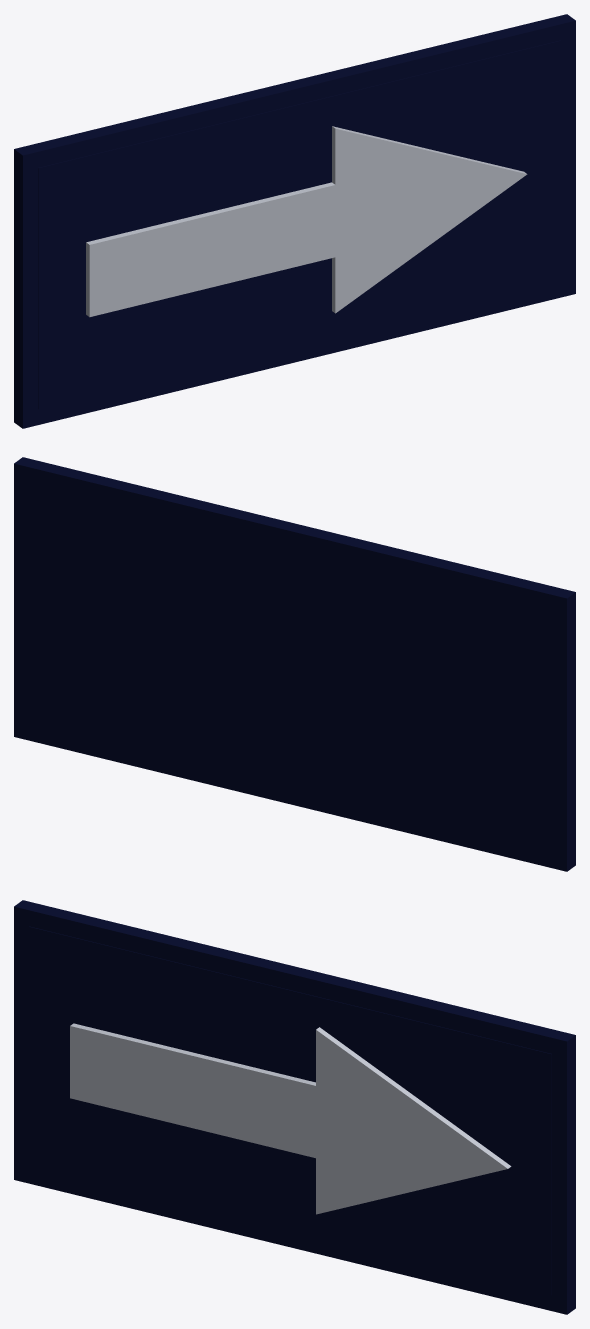
Rendered from SM_Sign_Arrow.glb.
3 views of the same model, one above another, from view 1: azimuth 30°, elevation 25°; view 2: azimuth 150°, elevation 25°; view 3: azimuth 330°, elevation 25° (orthographic).
Visible parts, largest first — view 1: SM_Sign_Arrow; view 2: SM_Sign_Arrow; view 3: SM_Sign_Arrow.
Boxes of the visible parts, x1,y1,x2,y2 form: SM_Sign_Arrow: [14, 14, 575, 428]; SM_Sign_Arrow: [14, 457, 575, 871]; SM_Sign_Arrow: [14, 900, 575, 1314].
Size of the model in its own units: 0.72 by 0.34 by 0.032.
